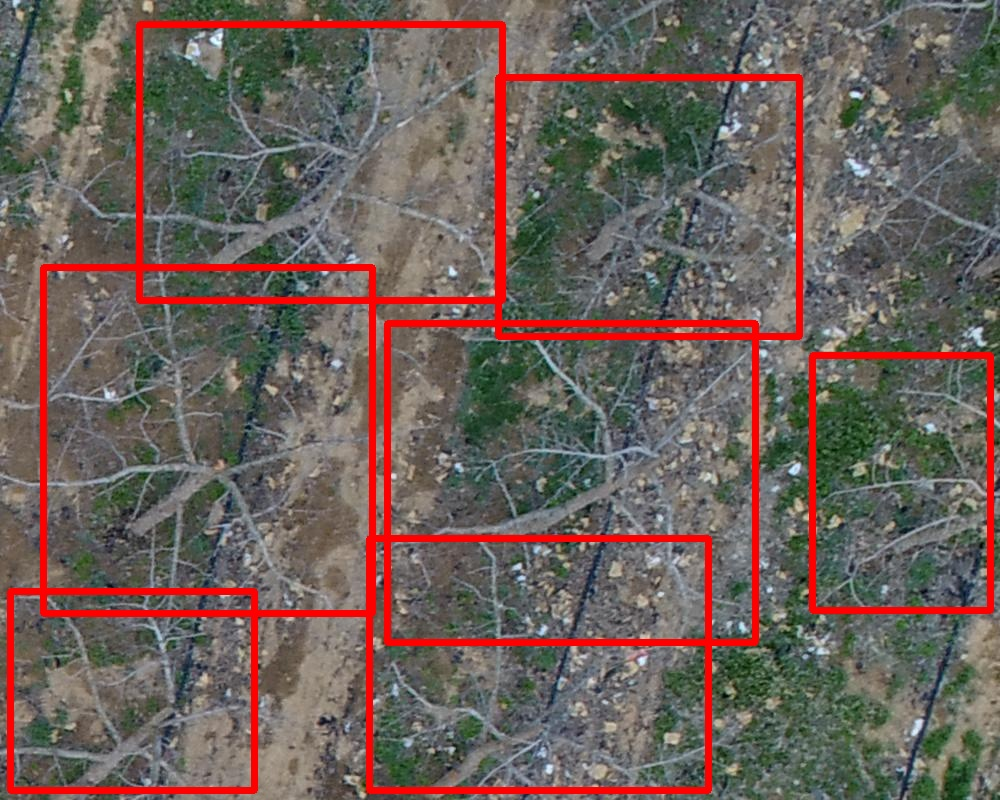apple: (387, 323, 755, 642), (43, 267, 372, 613), (139, 24, 502, 300), (369, 538, 708, 790), (498, 77, 799, 336), (10, 591, 254, 790), (812, 355, 990, 610)
